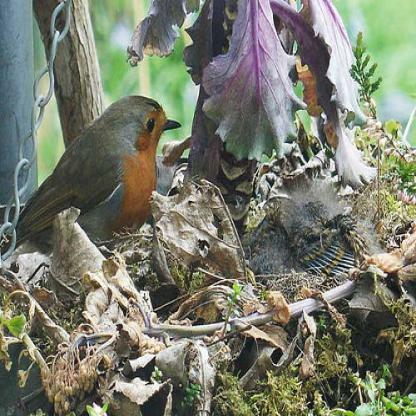bird: (0, 93, 182, 259)
